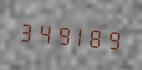eight: (86, 21, 102, 52)
four: (34, 16, 50, 48)
nine: (103, 22, 119, 54), (52, 18, 68, 49)
one: (69, 19, 85, 51)
three: (17, 15, 33, 46)
